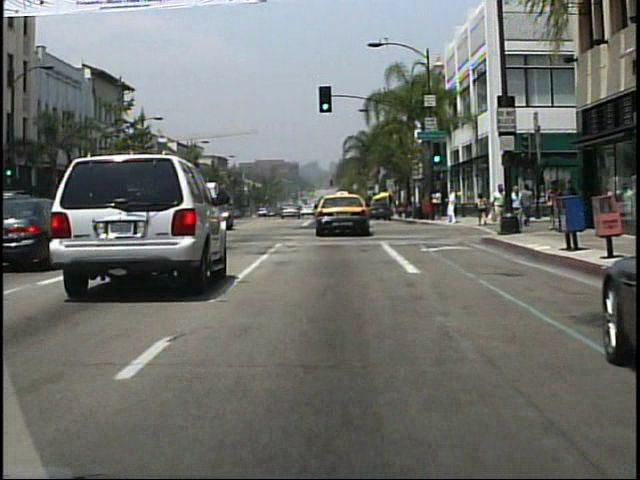person: (488, 184, 508, 234), (488, 181, 504, 236), (522, 183, 536, 228), (506, 190, 519, 226), (477, 191, 489, 229), (510, 183, 524, 215), (447, 188, 459, 224), (431, 186, 442, 220)
